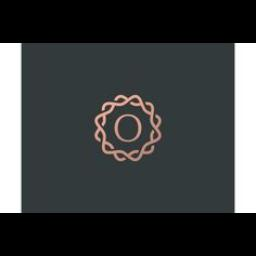o: (89, 87, 165, 171)
